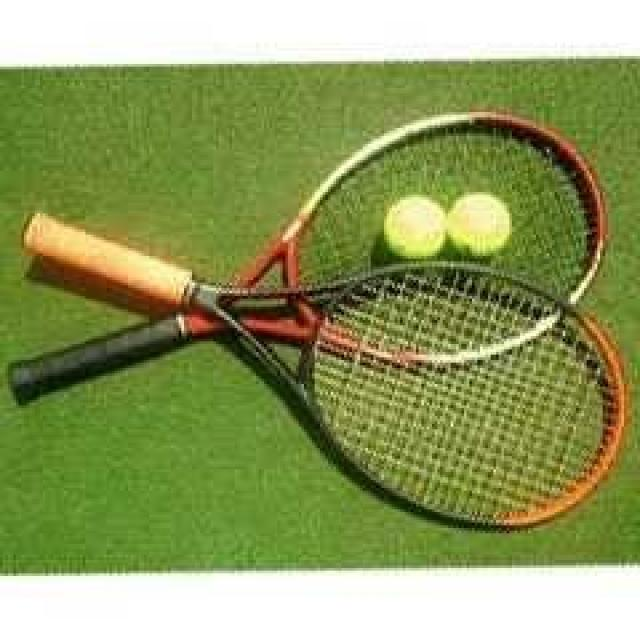Tennis_Ball: (449, 197, 511, 256), (381, 201, 443, 255)
